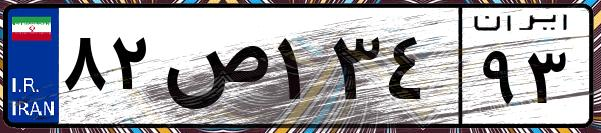1: (270, 28, 330, 110)
2: (110, 28, 158, 98)
3: (330, 28, 385, 110), (525, 38, 570, 115)
4: (385, 28, 445, 110)
8: (57, 26, 110, 100)
9: (475, 38, 525, 113)
ص: (158, 20, 270, 120)
